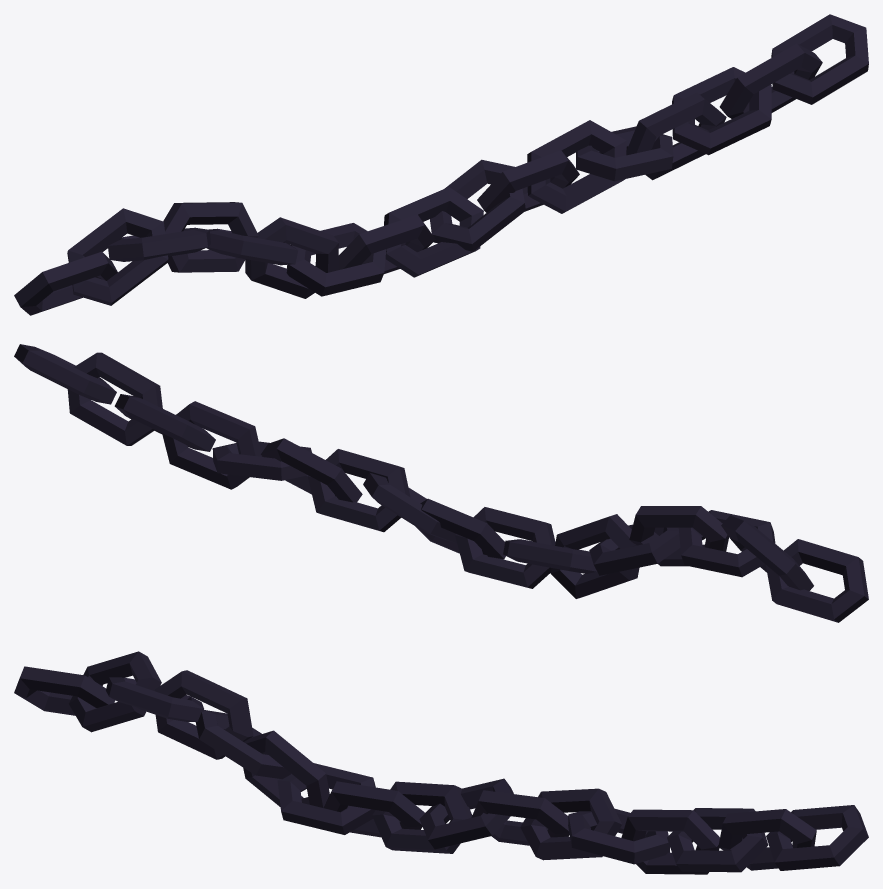
The model's file is MDungeon_Chain_Straight_02.FBX.
The picture shows the model from 3 angles, top to bottom: view 1: azimuth 30°, elevation 25°; view 2: azimuth 150°, elevation 25°; view 3: azimuth 330°, elevation 25°; orthographic projection. The views are drawn at different scales.
Parts seen in each view (by area): view 1: MDungeon_Chain_Straight_02_LOD0; view 2: MDungeon_Chain_Straight_02_LOD0; view 3: MDungeon_Chain_Straight_02_LOD0.
Part boxes in pixels (bbox=[...]): MDungeon_Chain_Straight_02_LOD0: bbox=[14, 14, 868, 315]; MDungeon_Chain_Straight_02_LOD0: bbox=[14, 344, 868, 622]; MDungeon_Chain_Straight_02_LOD0: bbox=[14, 651, 868, 874].
Size of what is drawn, in the model's own units: 2.48 by 0.376 by 0.2245.
